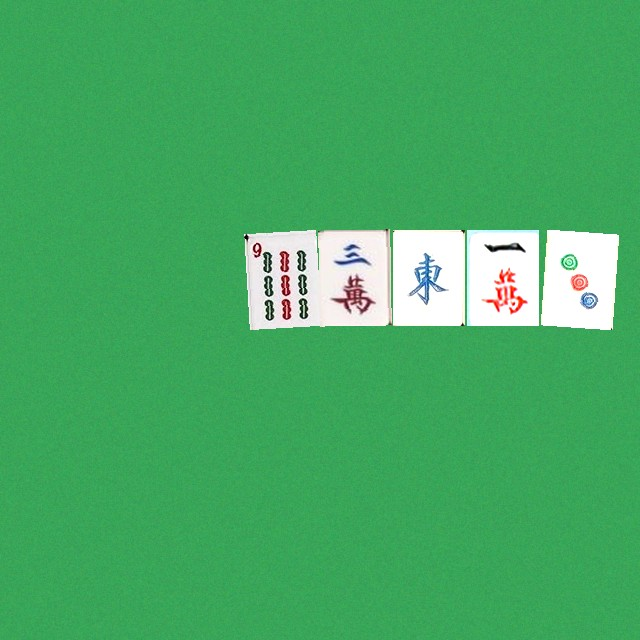tile: (244, 229, 316, 325), (318, 229, 390, 325), (392, 229, 464, 325), (466, 229, 538, 325), (540, 229, 612, 325)
